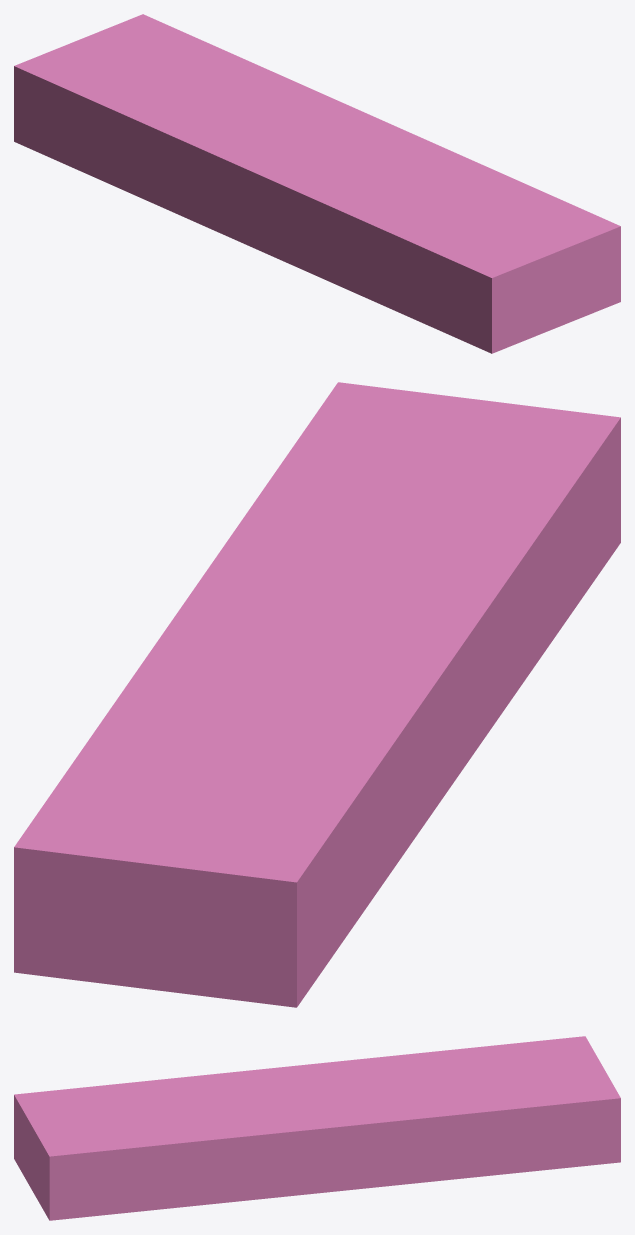
The model's file is Step_low.fbx.
3 views of the same model, one above another, from view 1: azimuth 30°, elevation 25°; view 2: azimuth 150°, elevation 25°; view 3: azimuth 270°, elevation 25° (orthographic). The views are drawn at different scales.
Parts seen in each view (by area): view 1: Cube.029; view 2: Cube.029; view 3: Cube.029.
Part boxes in pixels (x1=…): Cube.029: x1=14, y1=14, x2=620, y2=353; Cube.029: x1=14, y1=382, x2=620, y2=1007; Cube.029: x1=14, y1=1036, x2=620, y2=1220.
Bounding box in the file's own units: 145 × 36.14 × 310.
